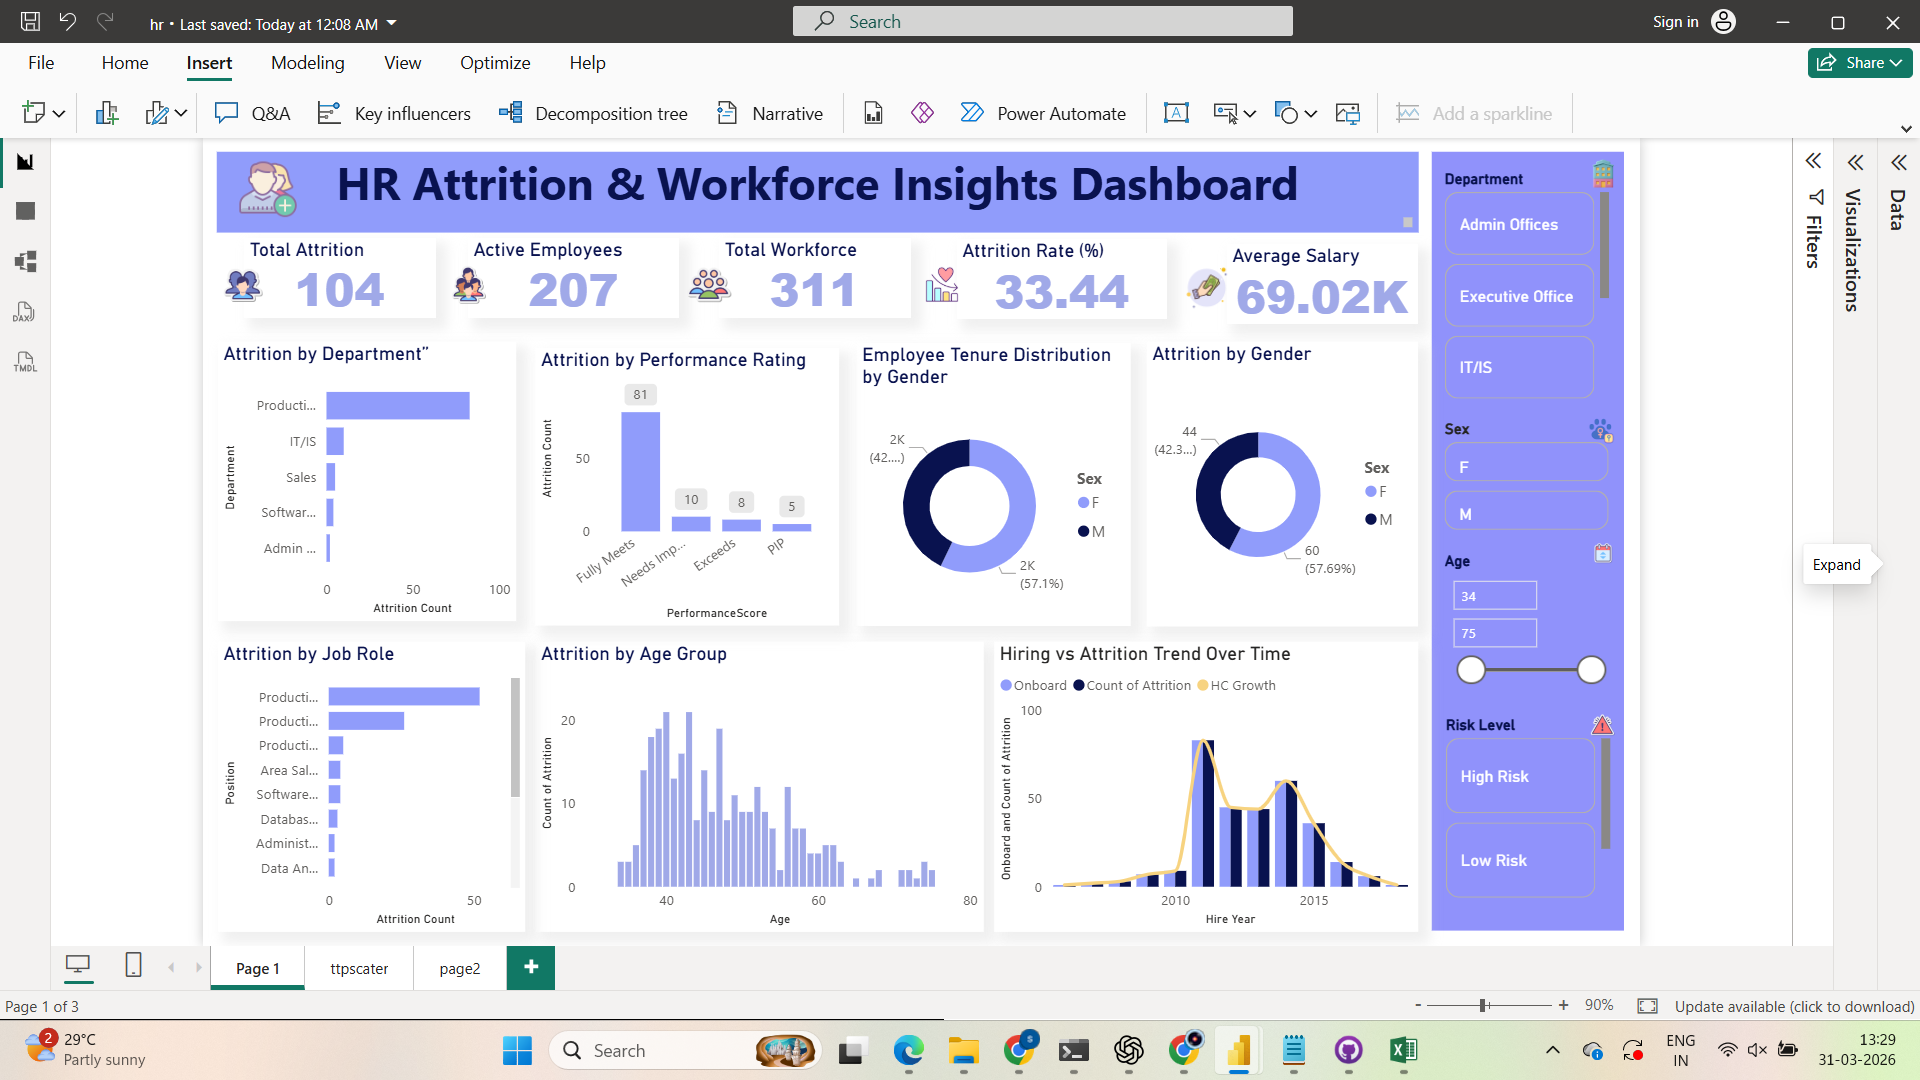

This screenshot's page, from the dashboard's own definition file:
{"tool":"powerbi","page":{"name":"Page 1","canvas":[1280,720],"ordinal":0},"visuals":[{"type":"textbox","box":[21.7,12.1,428.3,82],"z":0},{"type":"card","title":"Attrition Rate (%)","fields":{"Values":["HRDataset_v14.Attrition Rate (%)"]},"box":[670.8,90.5,187,71.2],"z":1000},{"type":"card","title":"Active Employees","fields":{"Values":["HRDataset_v14.Active HC"]},"box":[236.5,89.3,188.2,71.2],"z":2000},{"type":"card","title":"Total Attrition","fields":{"Values":["HRDataset_v14.Attrition Count"]},"box":[36.2,89.3,170.1,71.2],"z":3000},{"type":"card","title":"Total Workforce","fields":{"Values":["HRDataset_v14.Total Employees"]},"box":[459.7,89.3,170.1,71.2],"z":4000},{"type":"card","title":"Average Salary","fields":{"Values":["HRDataset_v14.Avg Salary"]},"box":[912.1,94.1,170.1,71.2],"z":5000},{"type":"textbox","box":[1094.2,12.1,171.3,693.7],"z":6000},{"type":"textbox","title":"HR Attrition & Workforce Insights Dashboard","box":[12.1,12.1,1070.1,72.4],"z":7000},{"type":"barChart","title":"Attrition by Department”","fields":{"Y":["HRDataset_v14.Attrition Count"],"Category":["HRDataset_v14.Department"]},"box":[13.3,181,265.4,248.5],"z":8000},{"type":"donutChart","title":"Employee Tenure Distribution by Gender","fields":{"Category":["HRDataset_v14.Sex"],"Y":["Sum(HRDataset_v14.YearsAtCompany)"]},"box":[582.6,182.6,244.2,252.3],"z":9000},{"type":"columnChart","title":"Attrition by Age Group","fields":{"Y":["CountNonNull(HRDataset_v14.Attrition)"],"Category":["HRDataset_v14.Age"]},"box":[295.6,448.8,399.3,258.2],"z":10000},{"type":"barChart","title":"Attrition by Job Role","fields":{"Y":["HRDataset_v14.Attrition Count"],"Category":["HRDataset_v14.Position"]},"box":[13.3,448.8,273.9,258.2],"z":11000},{"type":"donutChart","title":"Attrition by Gender","fields":{"Category":["HRDataset_v14.Sex"],"Y":["HRDataset_v14.Attrition Count"]},"box":[840.7,181.4,241.9,253.5],"z":12000},{"type":"lineClusteredColumnComboChart","title":"Hiring vs Attrition Trend Over Time","fields":{"Category":["HRDataset_v14.Hire Year"],"Y":["HRDataset_v14.Onboard","CountNonNull(HRDataset_v14.Attrition)"],"Y2":["HRDataset_v14.HC Growth"]},"box":[704.6,448.8,377.6,258.2],"z":13000},{"type":"columnChart","title":"Attrition by Performance Rating","fields":{"Category":["HRDataset_v14.PerformanceScore"],"Y":["HRDataset_v14.Attrition Count"]},"box":[295.6,187,270.2,247.3],"z":14000},{"type":"advancedSlicerVisual","fields":{"Values":["HRDataset_v14.Department"]},"box":[1101.3,28.9,156.6,211.1],"z":15000},{"type":"advancedSlicerVisual","fields":{"Values":["HRDataset_v14.Sex"]},"box":[1101.3,251.9,156.6,103.8],"z":16000},{"type":"slicer","title":"Age","fields":{"Values":["HRDataset_v14.Age"]},"box":[1101.3,369.4,156.6,153.2],"z":17000},{"type":"advancedSlicerVisual","fields":{"Values":["HRDataset_v14.Risk Level"]},"box":[1102.3,515.1,157,167.4],"z":18000},{"type":"image","box":[629.8,106.2,55.5,49.5],"z":19000},{"type":"image","box":[857.8,106.2,71.2,55.5],"z":20000},{"type":"image","box":[424.7,106.2,51.9,50.7],"z":21000},{"type":"image","box":[214.7,108.6,43.4,43.4],"z":22000},{"type":"image","box":[13.3,102.5,44.6,57.9],"z":23000},{"type":"image","box":[1229.1,14,36,34.9],"z":24000},{"type":"image","box":[1227.9,245.3,34.9,32.6],"z":25000},{"type":"image","box":[1225.6,355.8,41.9,27.9],"z":26000},{"type":"image","box":[1227.9,507,37.2,32.6],"z":27000},{"type":"image","box":[26.7,14.5,62.3,61.2],"z":27001}]}

Visuals, with their boxes on the page's 1280x720 design canvas (x1, y1, x2, y2). These are canvas units, not pixel positions in the 1920x1080 screenshot, which may show the page scaled, cropped or inside an application window:
textbox: rect(22, 12, 450, 94)
"Attrition Rate (%)" card: rect(671, 90, 858, 162)
"Active Employees" card: rect(236, 89, 425, 160)
"Total Attrition" card: rect(36, 89, 206, 160)
"Total Workforce" card: rect(460, 89, 630, 160)
"Average Salary" card: rect(912, 94, 1082, 165)
textbox: rect(1094, 12, 1266, 706)
"HR Attrition & Workforce Insights Dashboard" textbox: rect(12, 12, 1082, 84)
"Attrition by Department”" barChart: rect(13, 181, 279, 430)
"Employee Tenure Distribution by Gender" donutChart: rect(583, 183, 827, 435)
"Attrition by Age Group" columnChart: rect(296, 449, 695, 707)
"Attrition by Job Role" barChart: rect(13, 449, 287, 707)
"Attrition by Gender" donutChart: rect(841, 181, 1083, 435)
"Hiring vs Attrition Trend Over Time" lineClusteredColumnComboChart: rect(705, 449, 1082, 707)
"Attrition by Performance Rating" columnChart: rect(296, 187, 566, 434)
advancedSlicerVisual - HRDataset_v14.Department: rect(1101, 29, 1258, 240)
advancedSlicerVisual - HRDataset_v14.Sex: rect(1101, 252, 1258, 356)
"Age" slicer: rect(1101, 369, 1258, 523)
advancedSlicerVisual - HRDataset_v14.Risk Level: rect(1102, 515, 1259, 682)
image: rect(630, 106, 685, 156)
image: rect(858, 106, 929, 162)
image: rect(425, 106, 477, 157)
image: rect(215, 109, 258, 152)
image: rect(13, 102, 58, 160)
image: rect(1229, 14, 1265, 49)
image: rect(1228, 245, 1263, 278)
image: rect(1226, 356, 1268, 384)
image: rect(1228, 507, 1265, 540)
image: rect(27, 14, 89, 76)
